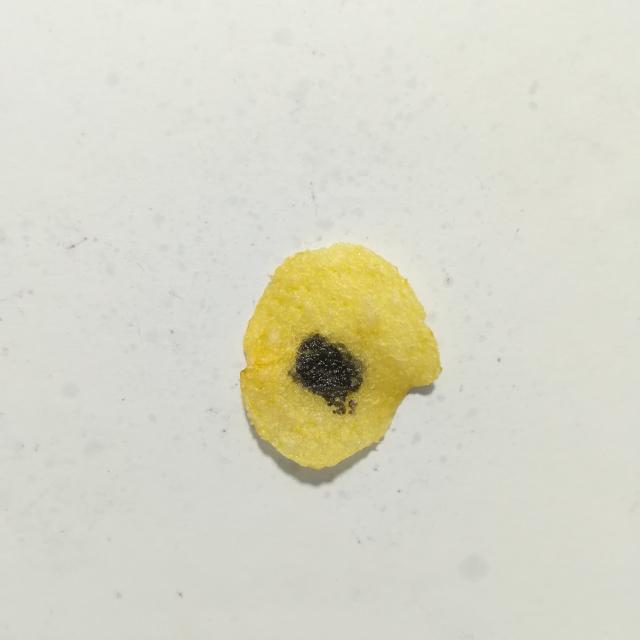chip: (240, 243, 441, 469)
damaged: (289, 334, 363, 414), (348, 398, 358, 414)
